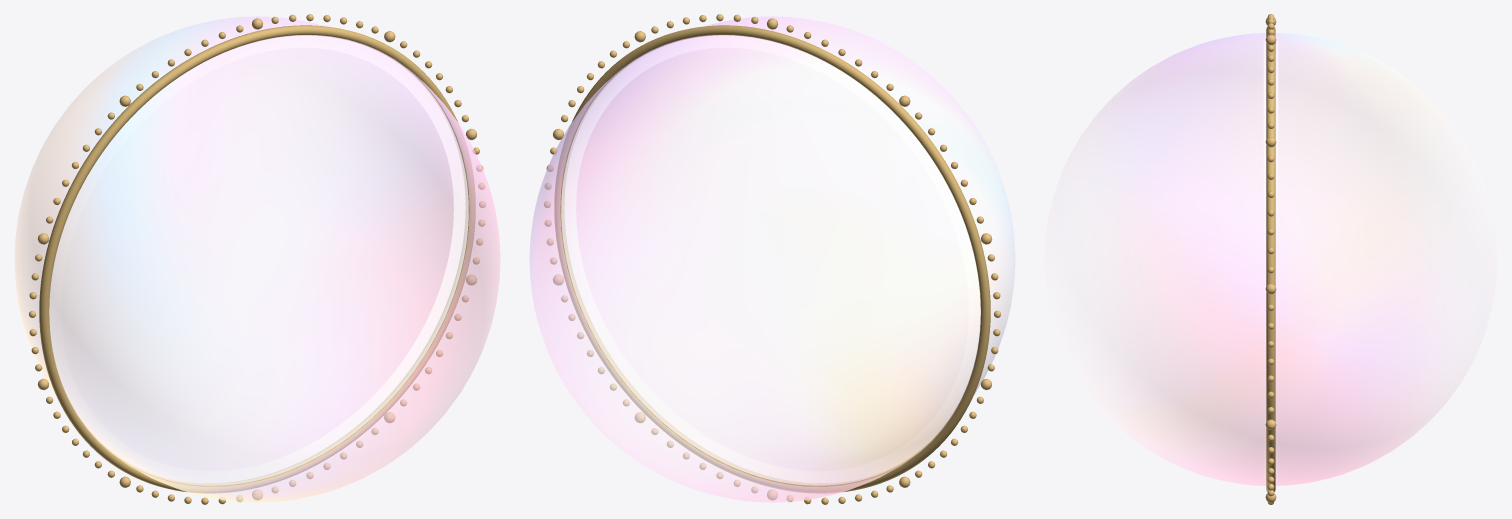
The model's file is recognition-pearl.glb.
3 views of the same model, side by side, from view 1: azimuth 30°, elevation 25°; view 2: azimuth 150°, elevation 25°; view 3: azimuth 270°, elevation 25° (orthographic). The views are drawn at different scales.
Parts seen in each view (by area): view 1: RecognitionPearl; view 2: RecognitionPearl; view 3: RecognitionPearl.
Part boxes in pixels (left/top/right/bottom): RecognitionPearl: left=14, top=14, right=500, bottom=504; RecognitionPearl: left=529, top=14, right=1015, bottom=504; RecognitionPearl: left=1064, top=14, right=1478, bottom=504.
Bounding box in the file's own units: 2.97 × 3 × 2.74.
